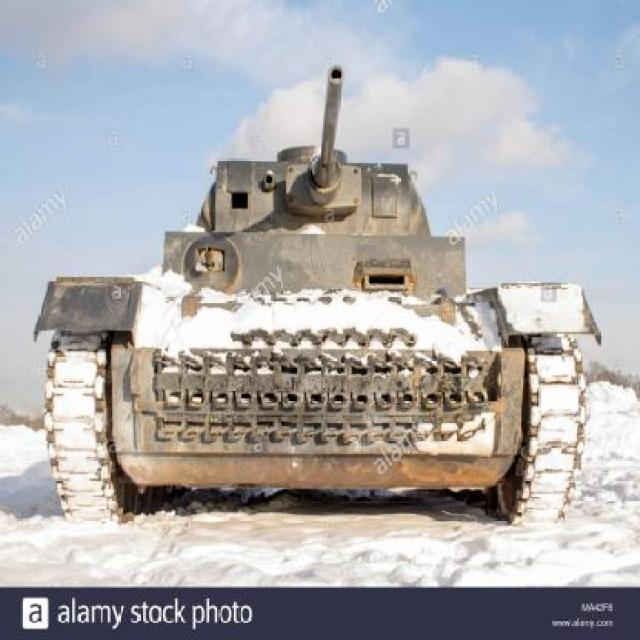corrosion: (40, 61, 608, 542)
